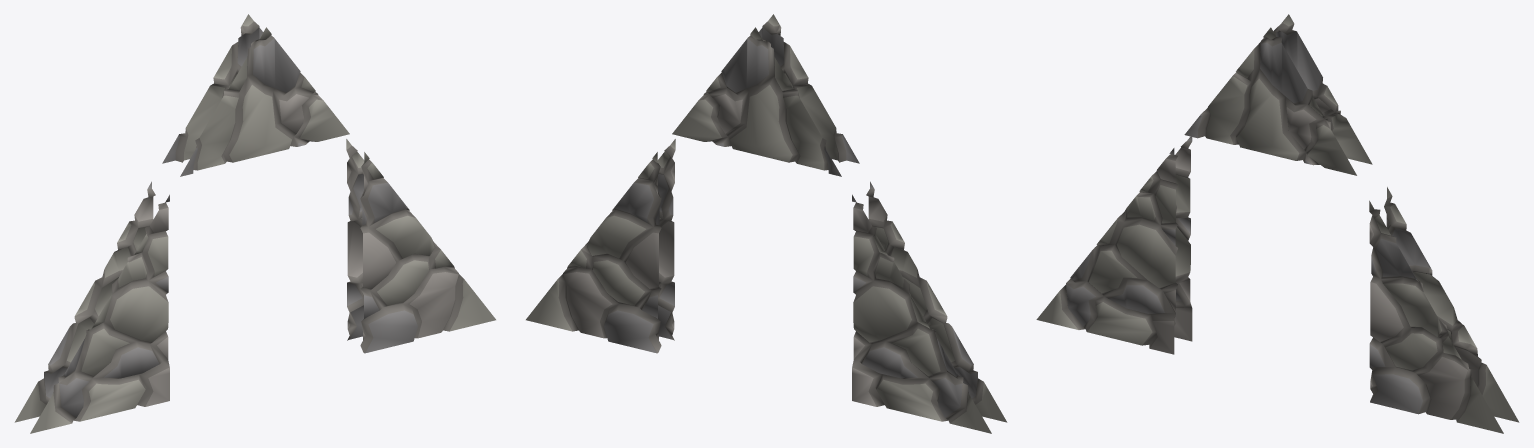
The model's file is rpgpp_ag_roof_end_01_6x5_wall_door_03d.fbx.
3 renders of one model, left to right at view 1: azimuth 30°, elevation 25°; view 2: azimuth 150°, elevation 25°; view 3: azimuth 330°, elevation 25°, orthographic.
Visible parts, largest first — view 1: rpgpp_ag_roof_end_01_6x5_wall_door_03d; view 2: rpgpp_ag_roof_end_01_6x5_wall_door_03d; view 3: rpgpp_ag_roof_end_01_6x5_wall_door_03d.
Part boxes in pixels (bbox=[...]): rpgpp_ag_roof_end_01_6x5_wall_door_03d: bbox=[14, 14, 495, 433]; rpgpp_ag_roof_end_01_6x5_wall_door_03d: bbox=[526, 14, 1007, 433]; rpgpp_ag_roof_end_01_6x5_wall_door_03d: bbox=[1036, 14, 1519, 433].
Bounding box in the file's own units: 6.36 × 4.57 × 0.4229.
